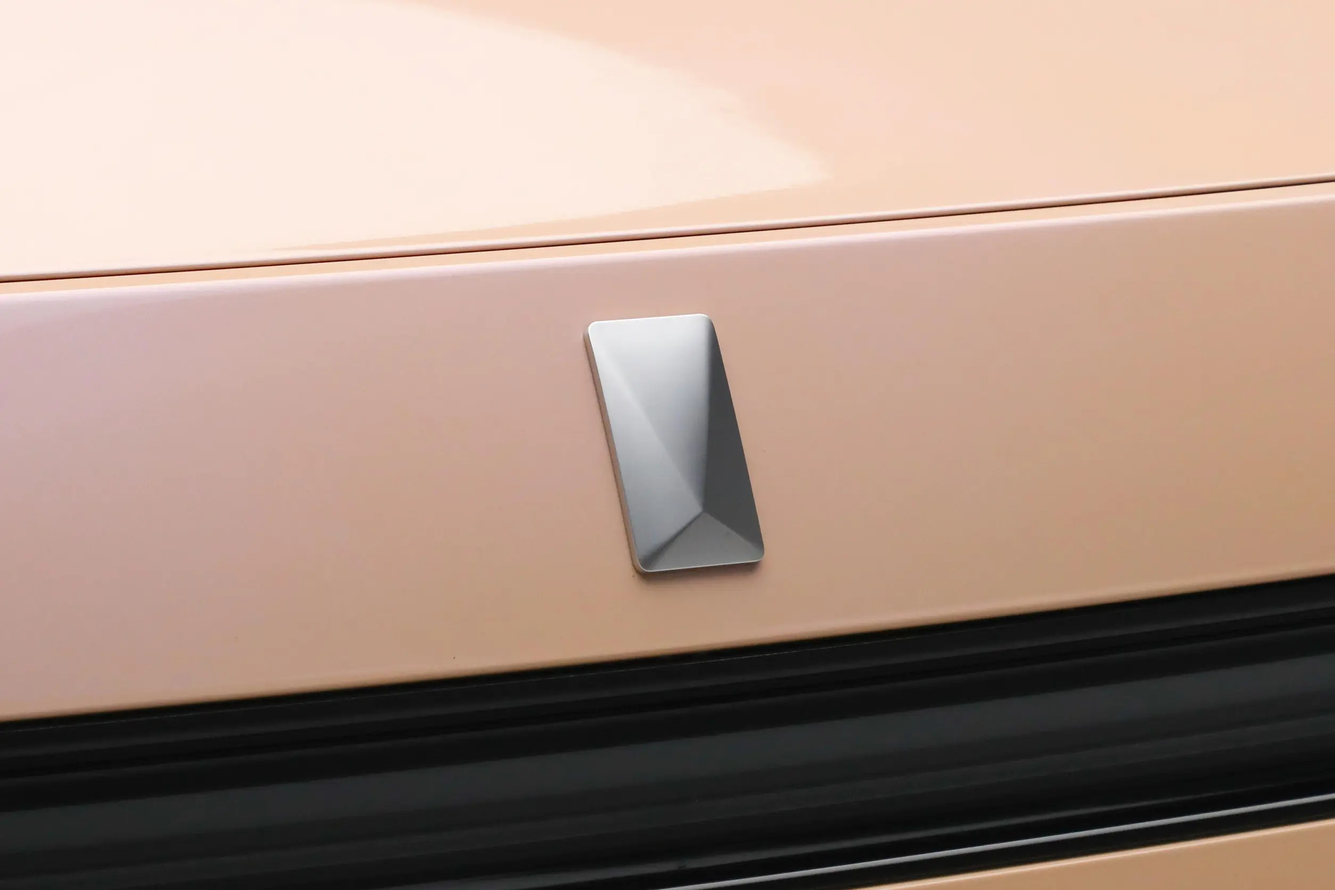AVATR: (584, 314, 764, 572)
